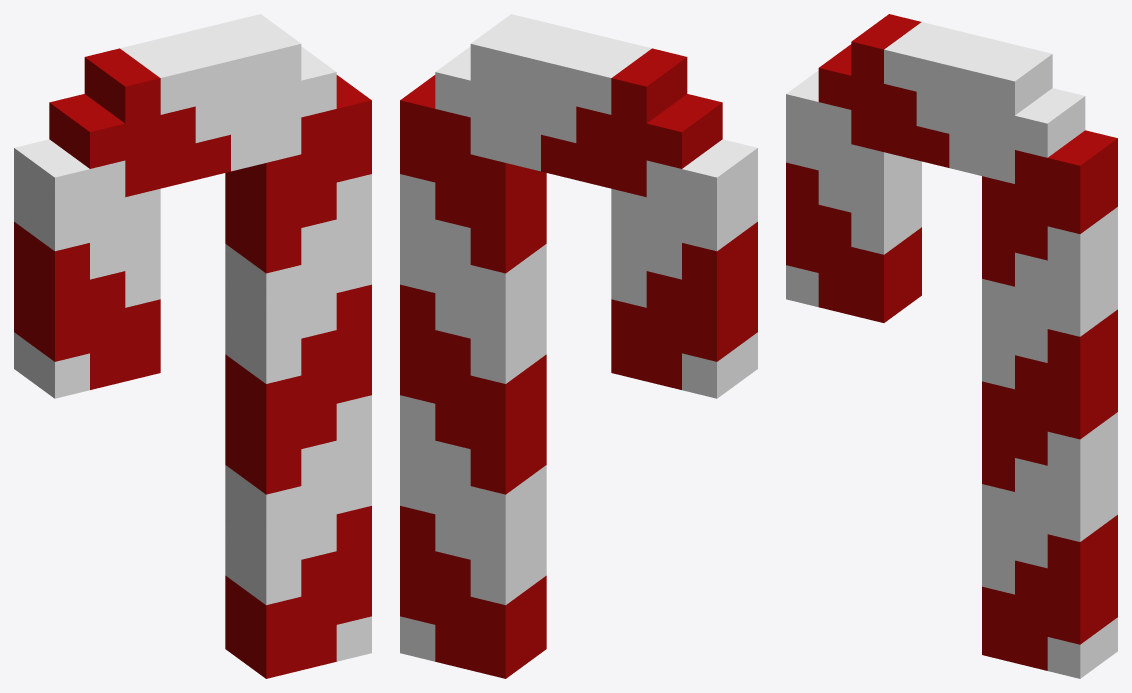
The model's file is ChristmasDecoration6.fbx.
The picture shows the model from 3 angles, left to right: view 1: azimuth 30°, elevation 25°; view 2: azimuth 150°, elevation 25°; view 3: azimuth 330°, elevation 25°; orthographic projection. The views are drawn at different scales.
Parts seen in each view (by area): view 1: ObjObject.002; view 2: ObjObject.002; view 3: ObjObject.002.
Part boxes in pixels (x1=…): ObjObject.002: x1=14, y1=14, x2=371, y2=678; ObjObject.002: x1=400, y1=14, x2=757, y2=678; ObjObject.002: x1=786, y1=14, x2=1117, y2=678.
Size of the model in its own units: 21.35 by 40.32 by 4.74.
